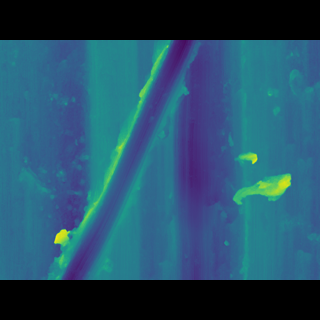Loch: (58, 68, 199, 251), (233, 167, 289, 193)
